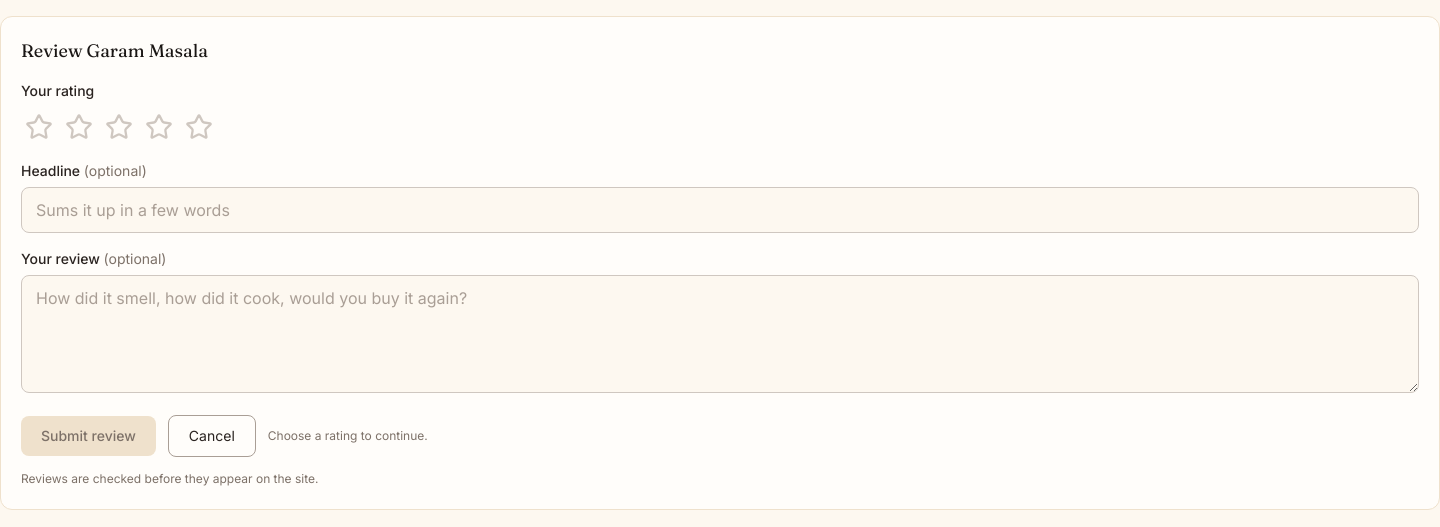
Test case: rating › enables submission once a star is chosen
Click the button named "4 stars" at {"x": 159, "y": 127}, box top-left (141, 109), bottom-right (177, 145)
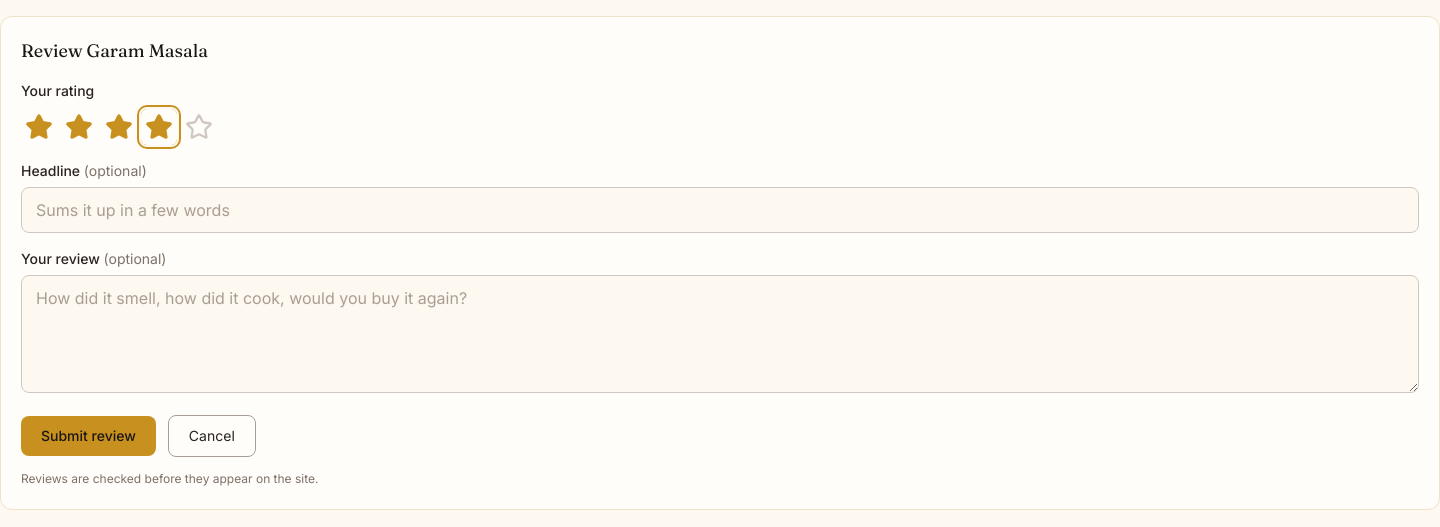
Expected: the button "Submit review" is enabled, top-left (21, 416), bottom-right (156, 456)
Expected: the text "Choose a rating to continue" is gone
